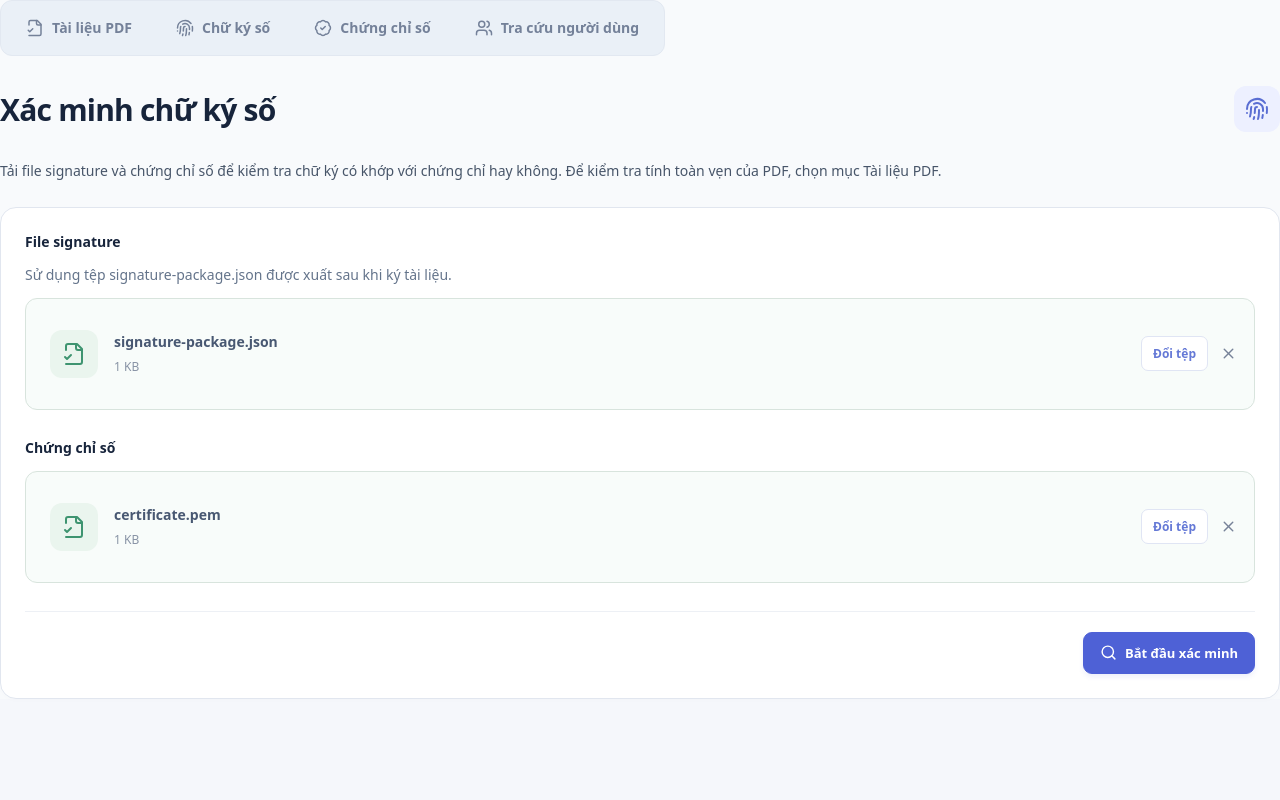
Scenario: Signature package verification › requires signature and certificate files, submits their content, and explains the PDF scope
The image size is (1280, 800).
Earlier steps of the test are not shown.
Later steps or results of the test are not shown.
Click the button "Bắt đầu xác minh" at (1169, 653), box [1083, 632, 1255, 674]
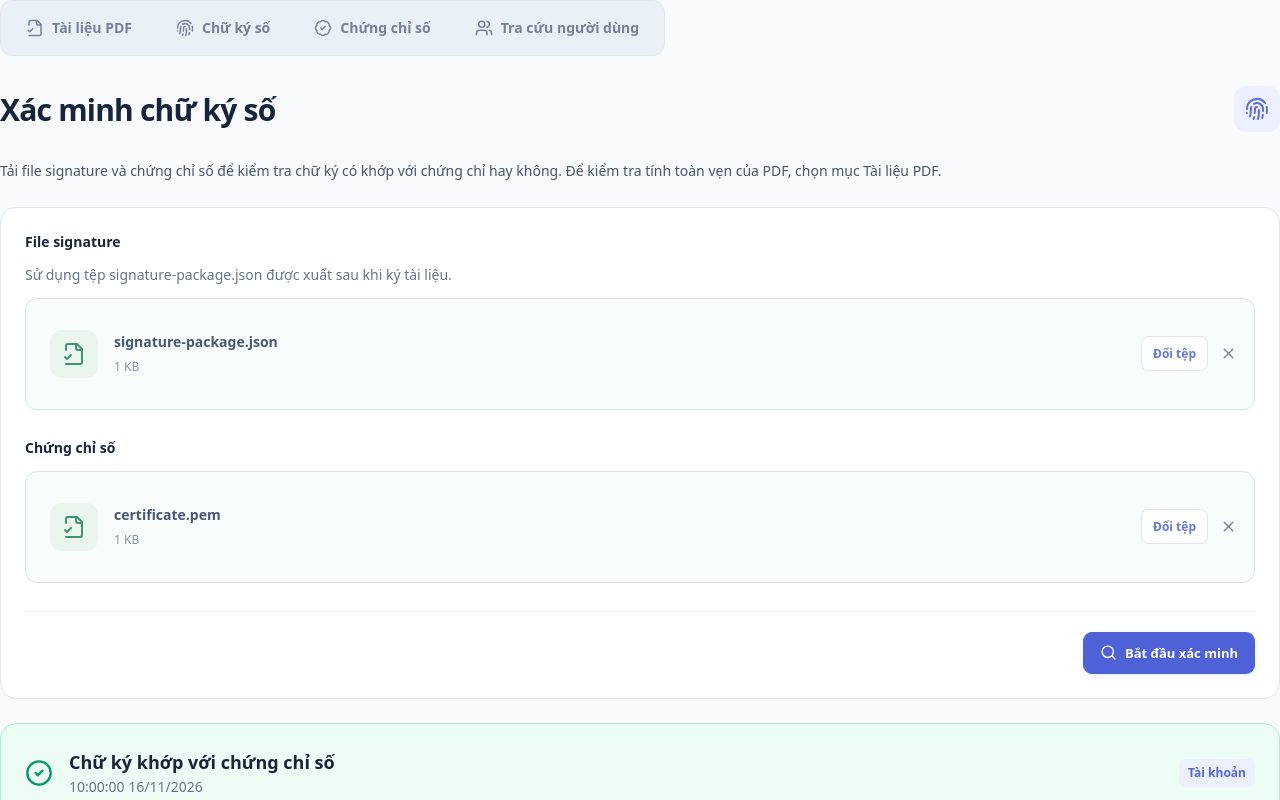
Click the button named "Bỏ Chọn file signature" at (1228, 354), box [1210, 336, 1246, 372]
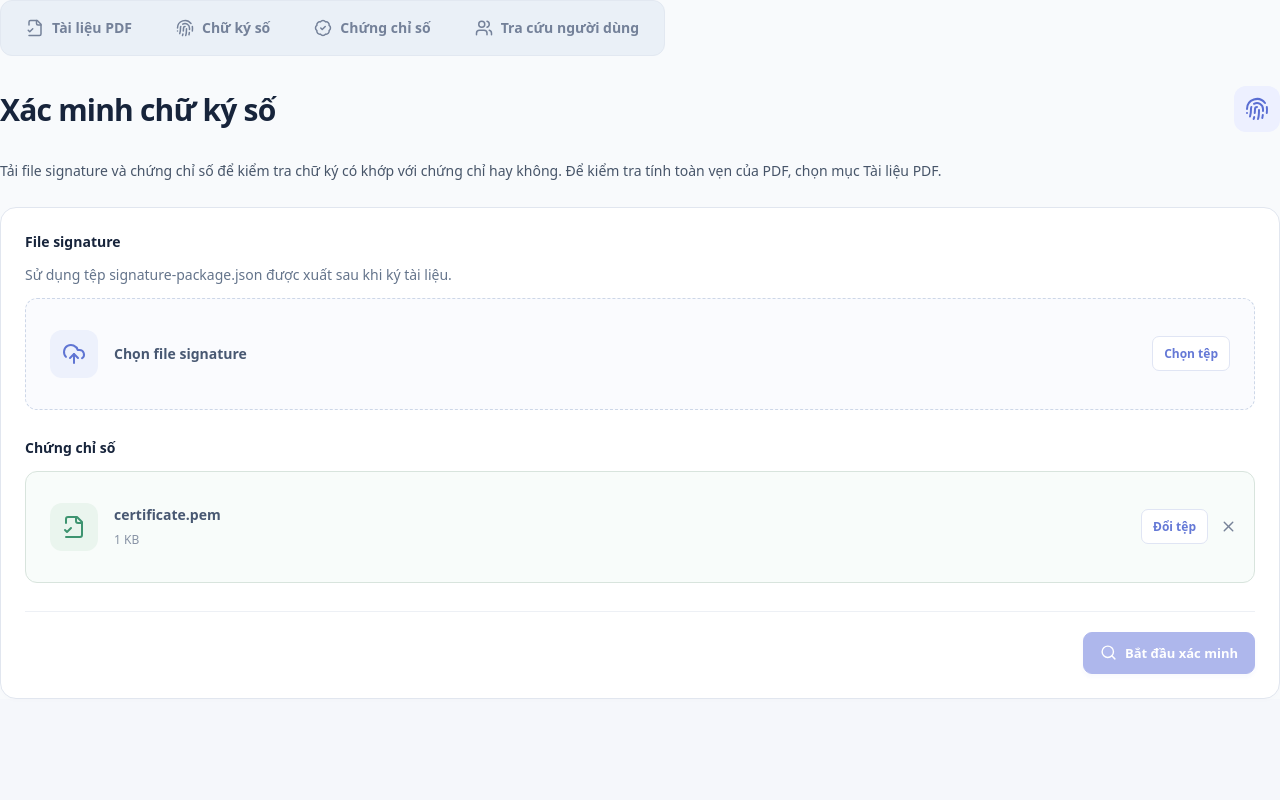
Check: the button "Bắt đầu xác minh" is disabled, box [1083, 632, 1255, 674]
